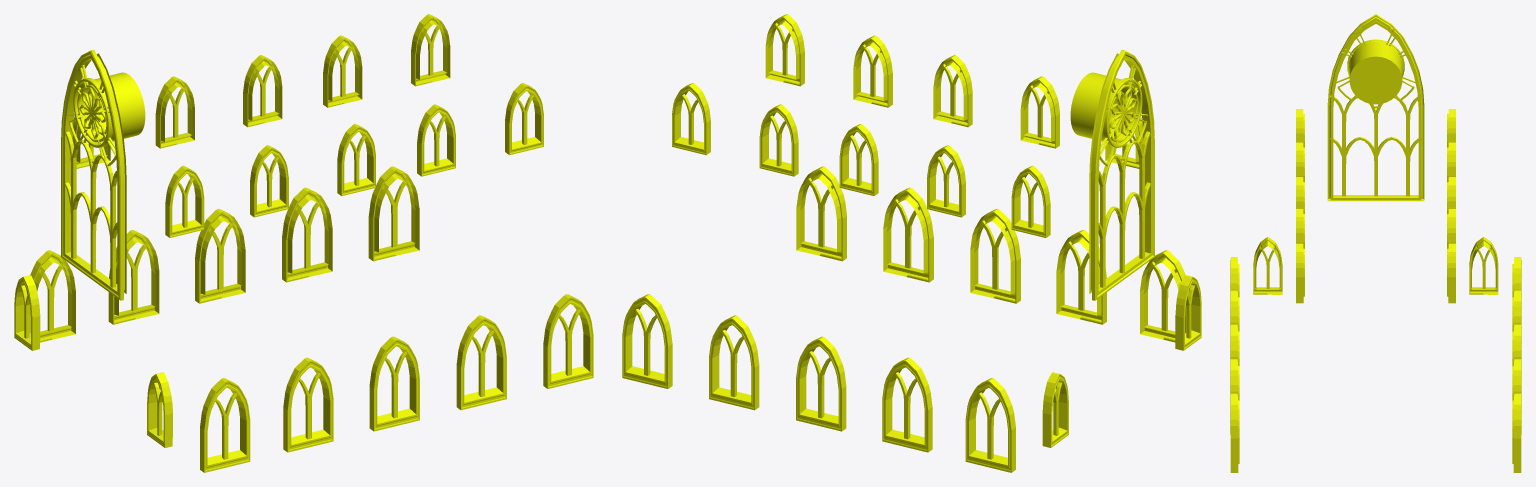
Rendered from ChurchWindow.fbx.
3 renders of one model, left to right at view 1: azimuth 30°, elevation 25°; view 2: azimuth 150°, elevation 25°; view 3: azimuth 270°, elevation 25°, orthographic. The views are drawn at different scales.
Visible parts, largest first — view 1: ChurchWindow; view 2: ChurchWindow; view 3: ChurchWindow.
Boxes of the visible parts, x1=… form: ChurchWindow: x1=14, y1=14, x2=593, y2=472; ChurchWindow: x1=622, y1=14, x2=1201, y2=472; ChurchWindow: x1=1230, y1=14, x2=1521, y2=472.
Size of the model in its own units: 18.83 by 15.75 by 14.09.
